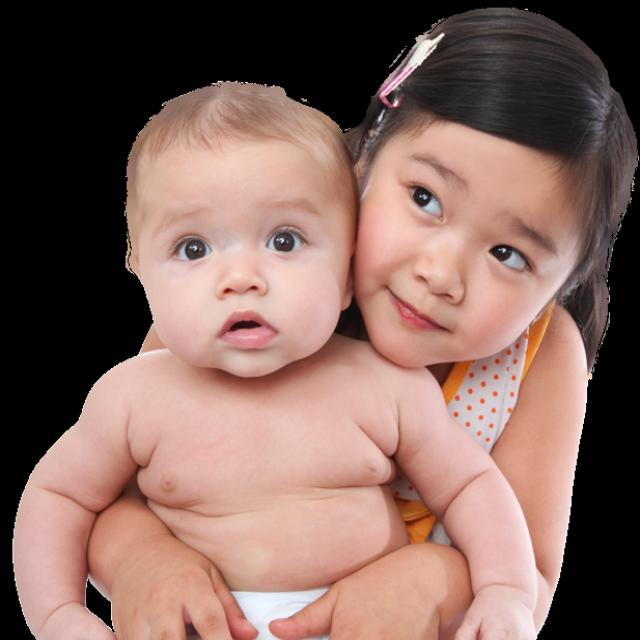child: (11, 85, 538, 640), (196, 5, 636, 640)
